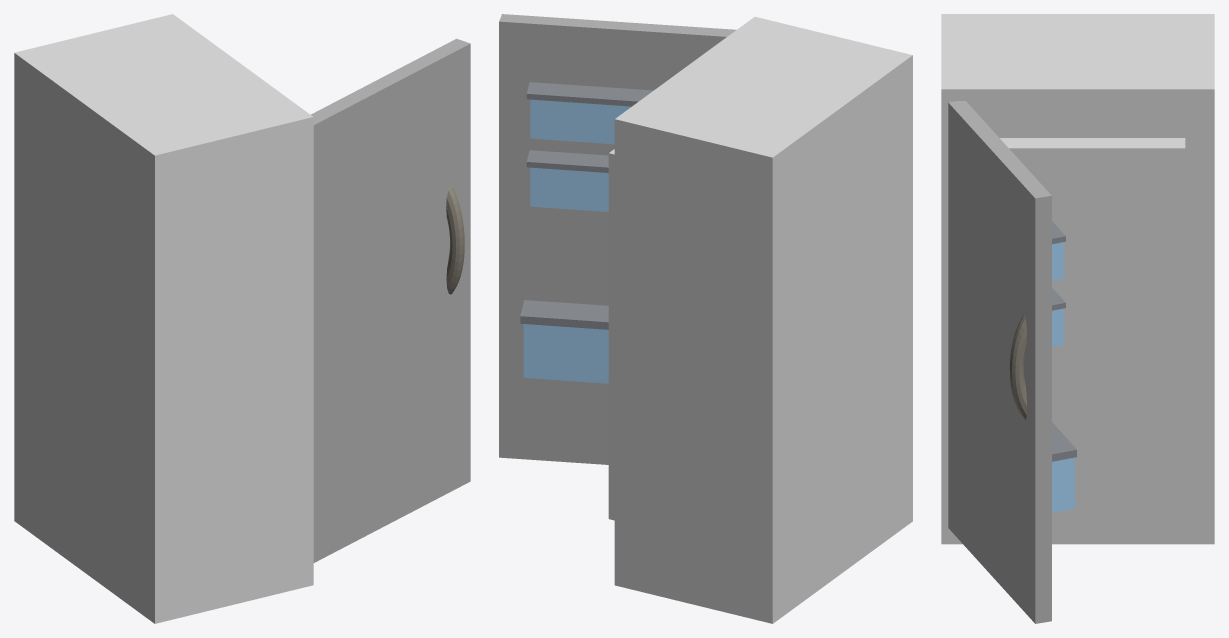
File: Computer_mouseRefrig.fbx
3 views of the same model, side by side, from view 1: azimuth 30°, elevation 25°; view 2: azimuth 150°, elevation 25°; view 3: azimuth 270°, elevation 25° (orthographic). The views are drawn at different scales.
Parts seen in each view (by area): view 1: Cube, Cube.007, Torus; view 2: Cube, Cube.007, Cube.008, Cube.011, Cube.009, Cube.001; view 3: Cube, Cube.001, Cube.007, Cube.008, Torus, Cube.009, Cube.011.
Boxes of the visible parts, left/top/right/bottom form: Cube: left=14, top=14, right=313, bottom=623; Cube.007: left=311, top=38, right=470, bottom=562; Torus: left=446, top=187, right=464, bottom=294; Cube: left=614, top=16, right=912, bottom=623; Cube.007: left=499, top=14, right=736, bottom=464; Cube.008: left=520, top=300, right=608, bottom=383; Cube.011: left=526, top=82, right=653, bottom=144; Cube.009: left=526, top=150, right=608, bottom=211; Cube.001: left=608, top=149, right=614, bottom=520; Cube: left=941, top=14, right=1214, bottom=544; Cube.001: left=1000, top=138, right=1185, bottom=505; Cube.007: left=948, top=101, right=1051, bottom=623; Cube.008: left=1052, top=422, right=1076, bottom=512; Torus: left=1009, top=316, right=1026, bottom=420; Cube.009: left=1052, top=287, right=1065, bottom=347; Cube.011: left=1052, top=221, right=1065, bottom=280.
Bounding box in the file's own units: 1046 × 1285 × 699.
